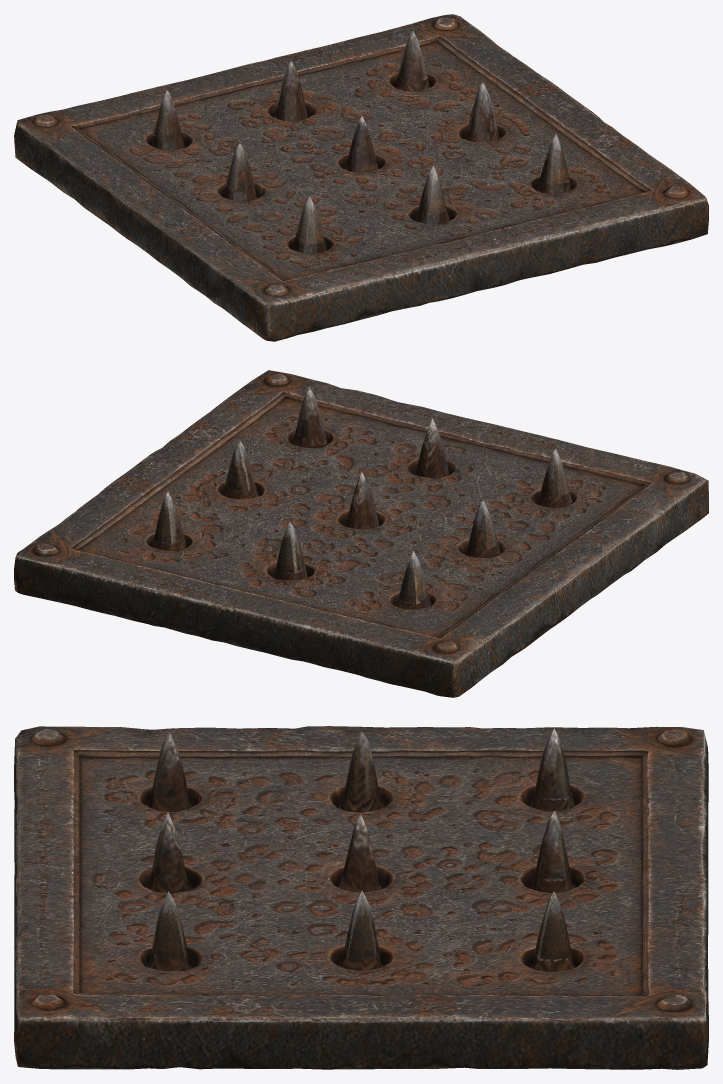
File: TrapSpike.fbx
The picture shows the model from 3 angles, top to bottom: view 1: azimuth 30°, elevation 25°; view 2: azimuth 150°, elevation 25°; view 3: azimuth 270°, elevation 25°; orthographic projection. The views are drawn at different scales.
Visible parts, largest first — view 1: texture_mapping; view 2: texture_mapping; view 3: texture_mapping.
Boxes of the visible parts, left/top/right/bottom form: texture_mapping: left=14, top=14, right=708, bottom=341; texture_mapping: left=14, top=370, right=708, bottom=697; texture_mapping: left=14, top=726, right=708, bottom=1069.
Size of the model in its own units: 0.9974 by 0.9959 by 0.1896.
Materials: 1 (1 with a texture image).
